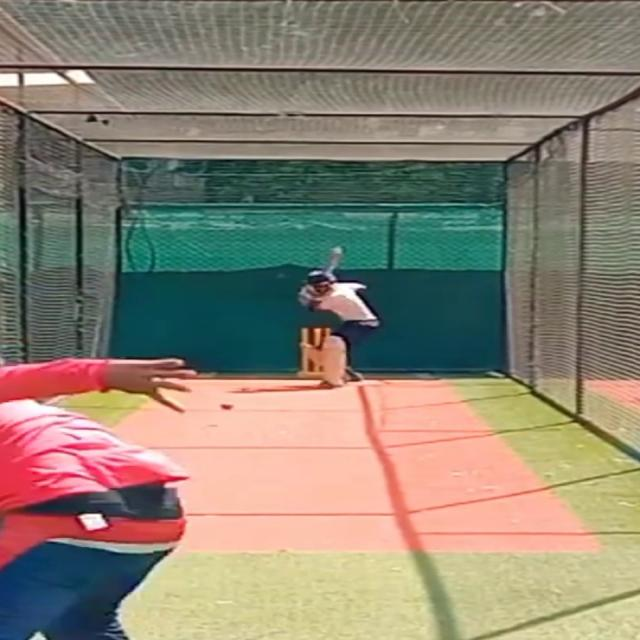ball: (216, 400, 234, 410)
stump: (295, 325, 328, 380)
